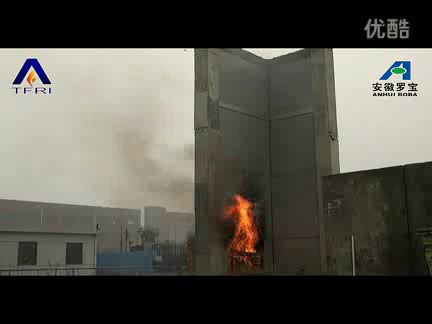fire: (221, 188, 264, 269)
